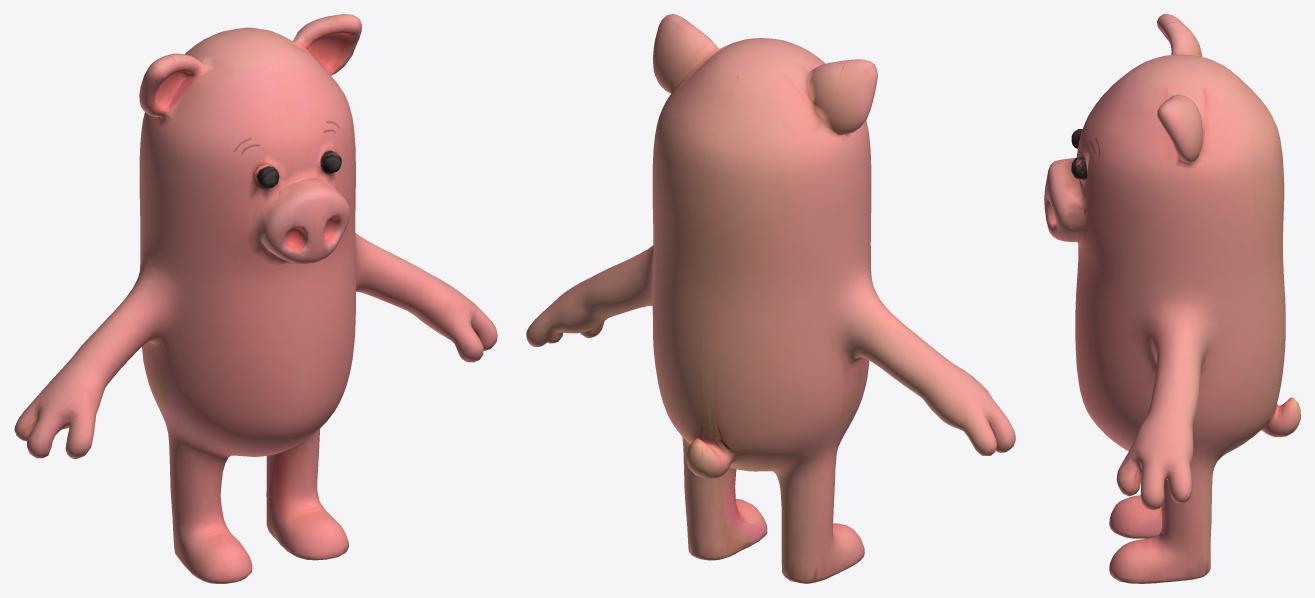
Rendered from PIG.fbx.
3 views of the same model, side by side, from view 1: azimuth 30°, elevation 25°; view 2: azimuth 150°, elevation 25°; view 3: azimuth 270°, elevation 25° (orthographic). The views are drawn at different scales.
Parts seen in each view (by area): view 1: Mesh_0.502; view 2: Mesh_0.502; view 3: Mesh_0.502.
Boxes of the visible parts, left/top/right/bottom form: Mesh_0.502: left=14, top=14, right=497, bottom=583; Mesh_0.502: left=526, top=14, right=1015, bottom=583; Mesh_0.502: left=1044, top=14, right=1300, bottom=583.
Bounding box in the file's own units: 191 × 200 × 94.38.
1 material, 1 textured.
